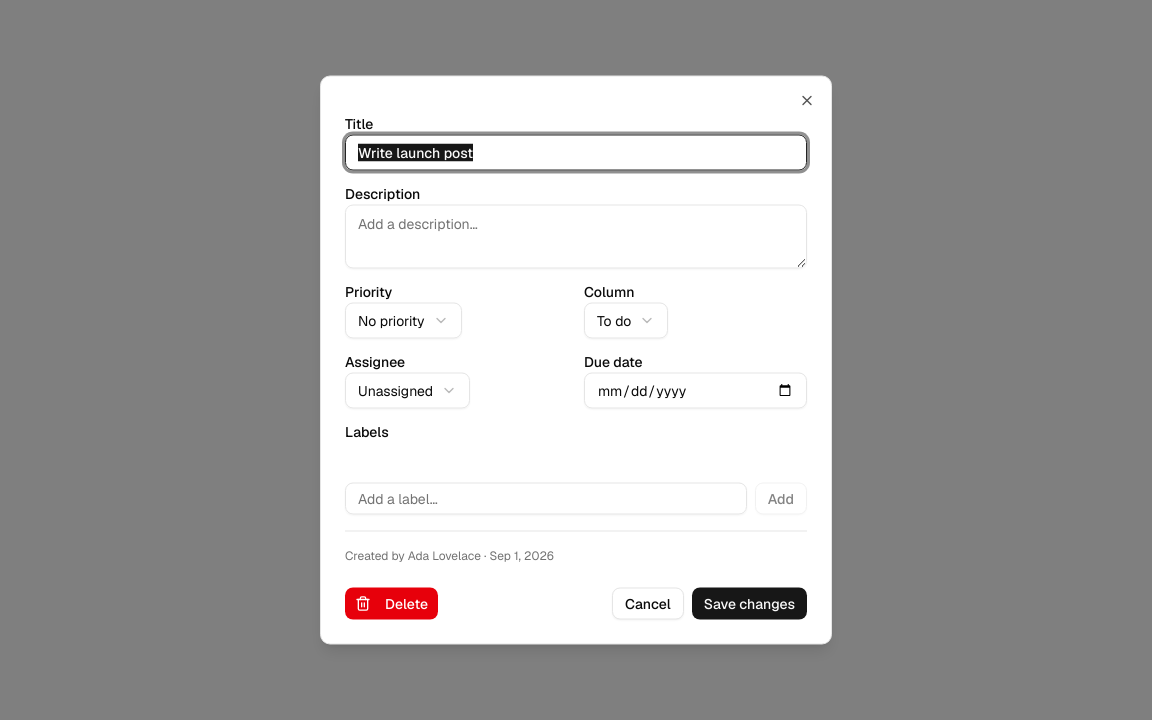
Scenario: TaskDetailDialog field names › names each assignee once, without reading out the avatar initials
Step 1. Click the dropdown named "Assignee" → (408, 390), box [345, 372, 470, 408]
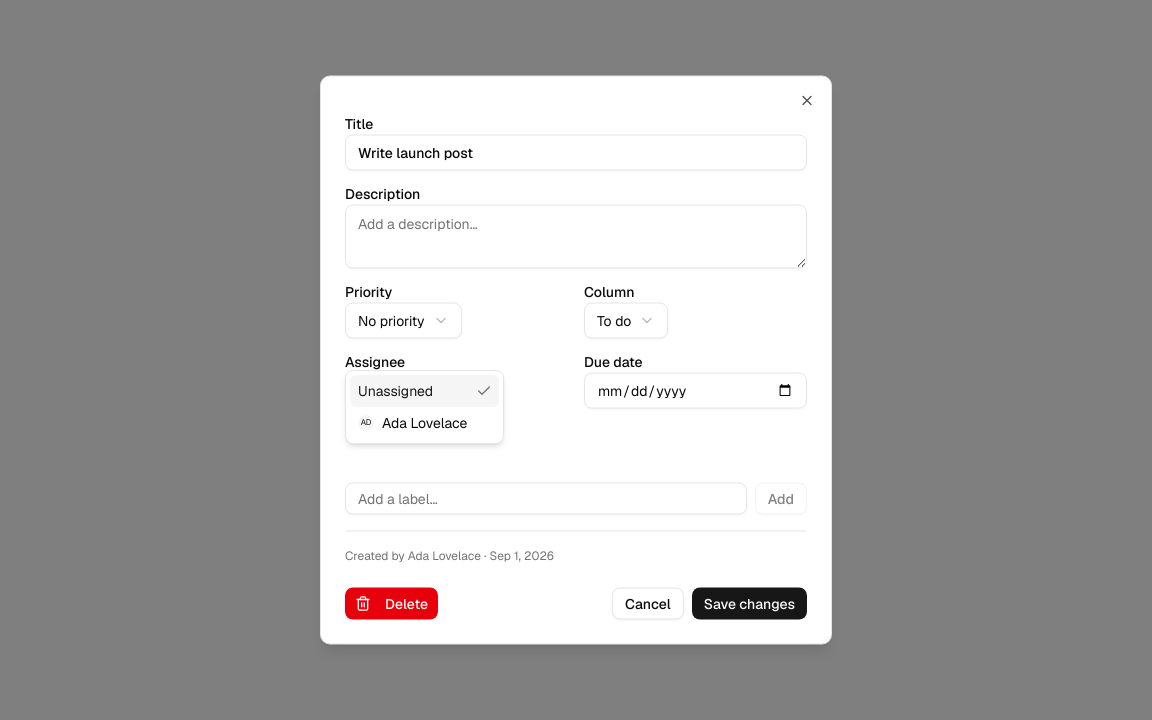
Result: the option "AD Ada Lovelace" is shown at [358, 414, 467, 432]
